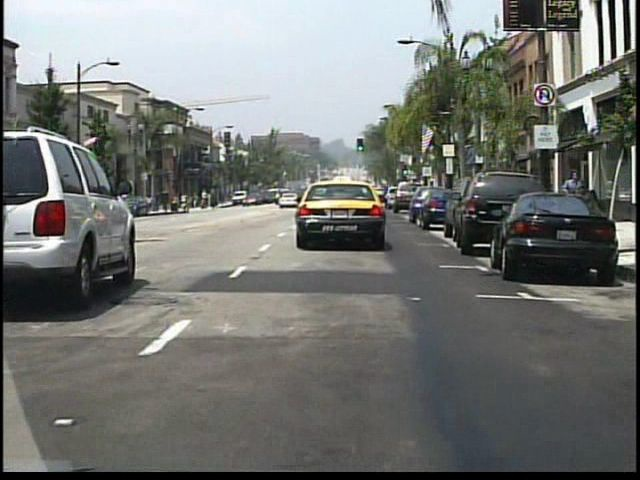person: (561, 166, 588, 228), (211, 192, 218, 210)
